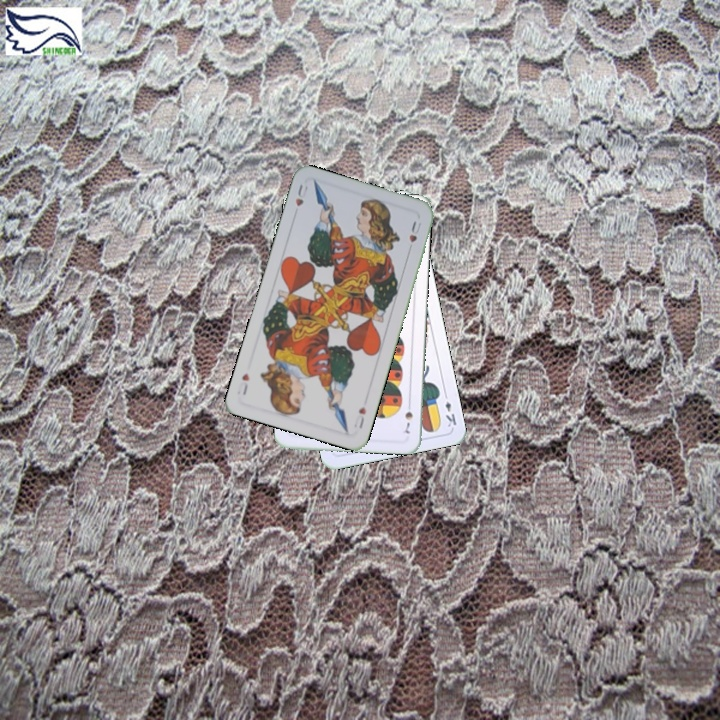EK: (440, 389, 459, 430)
HU: (291, 179, 310, 209), (350, 402, 369, 431)
S7: (401, 398, 415, 436)
